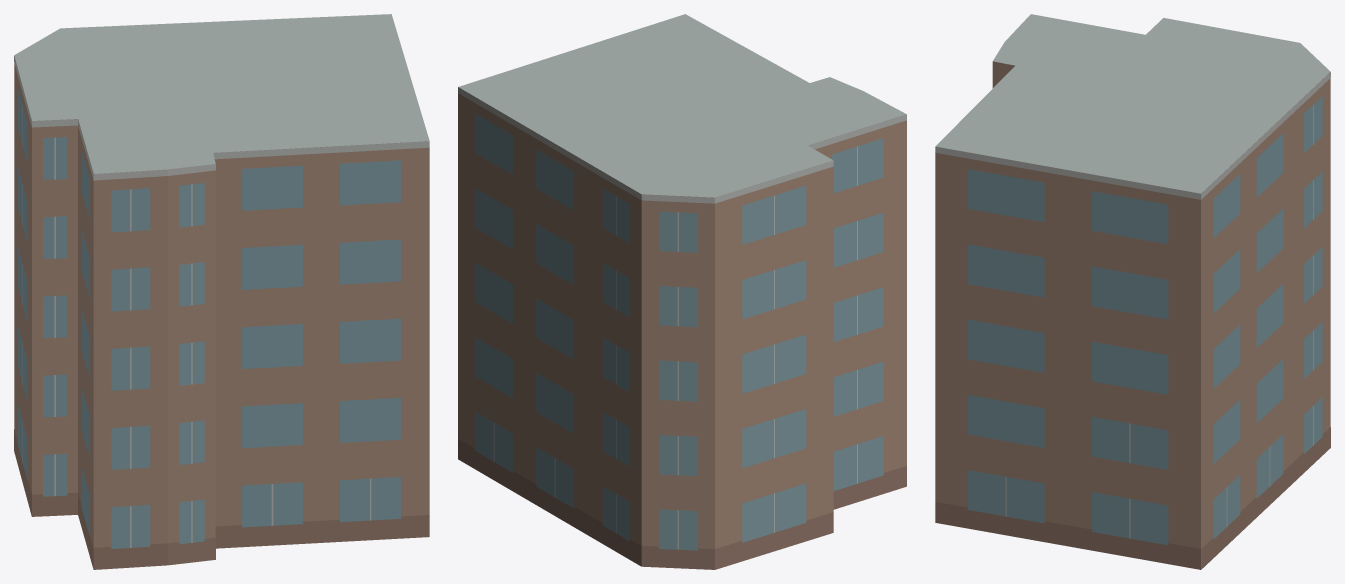
Rendered from survey-upis-32878536.glb.
3 renders of one model, left to right at view 1: azimuth 30°, elevation 25°; view 2: azimuth 150°, elevation 25°; view 3: azimuth 270°, elevation 25°, orthographic. The views are drawn at different scales.
Parts seen in each view (by area): view 1: survey-upis-32878536.tmp; view 2: survey-upis-32878536.tmp; view 3: survey-upis-32878536.tmp.
Part boxes in pixels (bbox=[...]): survey-upis-32878536.tmp: bbox=[14, 14, 429, 569]; survey-upis-32878536.tmp: bbox=[458, 14, 906, 569]; survey-upis-32878536.tmp: bbox=[935, 14, 1330, 569].
Size of the model in its own units: 15.27 by 14.9 by 14.2.
